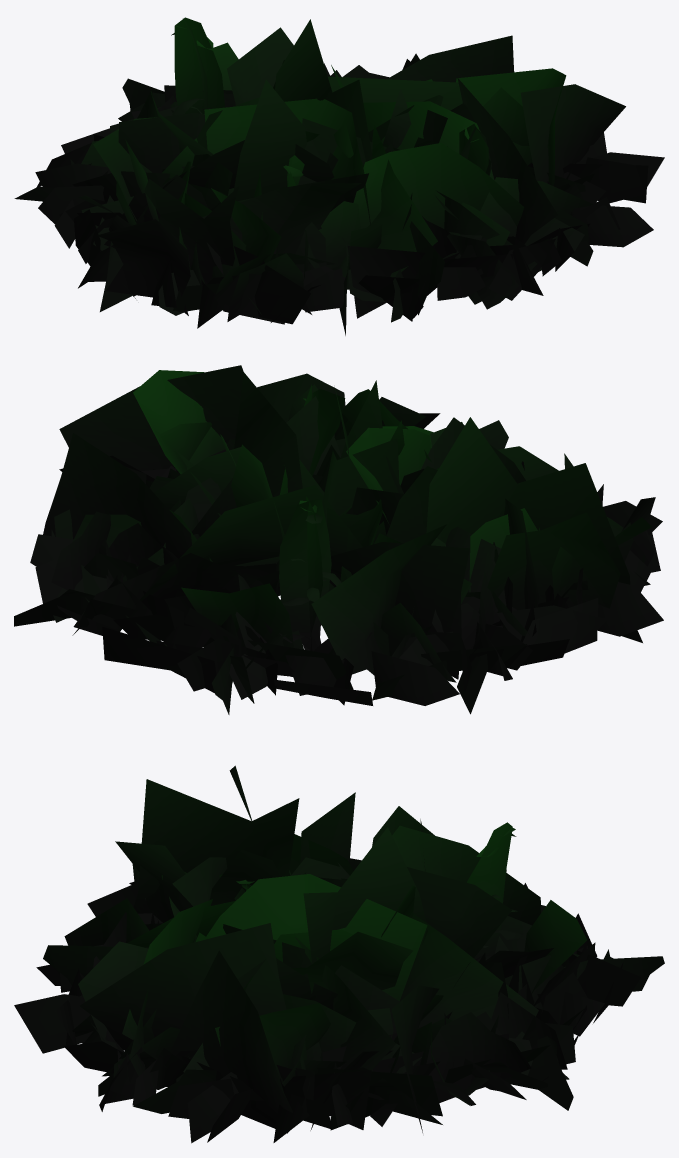
The model's file is Grass Mixed_J.fbx.
The picture shows the model from 3 angles, top to bottom: view 1: azimuth 30°, elevation 25°; view 2: azimuth 150°, elevation 25°; view 3: azimuth 270°, elevation 25°; orthographic projection. The views are drawn at different scales.
Visible parts, largest first — view 1: Grass MixedJ_G_LOD0, Grass MixedJ_F_LOD0; view 2: Grass MixedJ_G_LOD0, Grass MixedJ_F_LOD0; view 3: Grass MixedJ_G_LOD0, Grass MixedJ_F_LOD0.
Boxes of the visible parts, x1,y1,x2,y2 form: Grass MixedJ_G_LOD0: (14, 27, 664, 335); Grass MixedJ_F_LOD0: (78, 17, 491, 321); Grass MixedJ_G_LOD0: (14, 365, 663, 714); Grass MixedJ_F_LOD0: (220, 372, 655, 653); Grass MixedJ_G_LOD0: (14, 806, 664, 1143); Grass MixedJ_F_LOD0: (115, 765, 521, 1001).
Size of what is drawn, in the model's own units: 2.41 by 0.8608 by 2.31.
